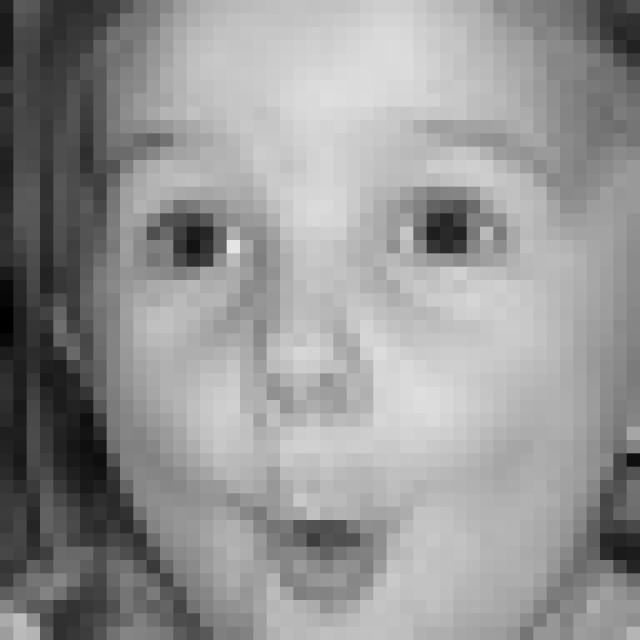surprise: (93, 119, 578, 607)
